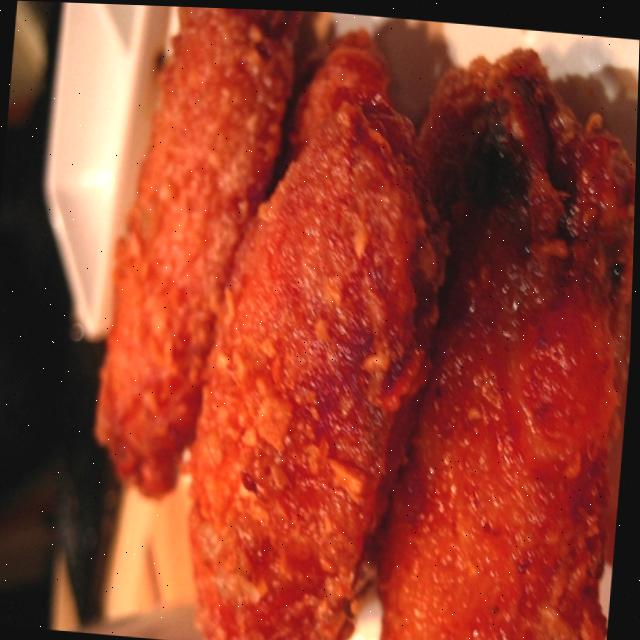鸡肉料理 含炸鸡: (0, 9, 626, 638)
